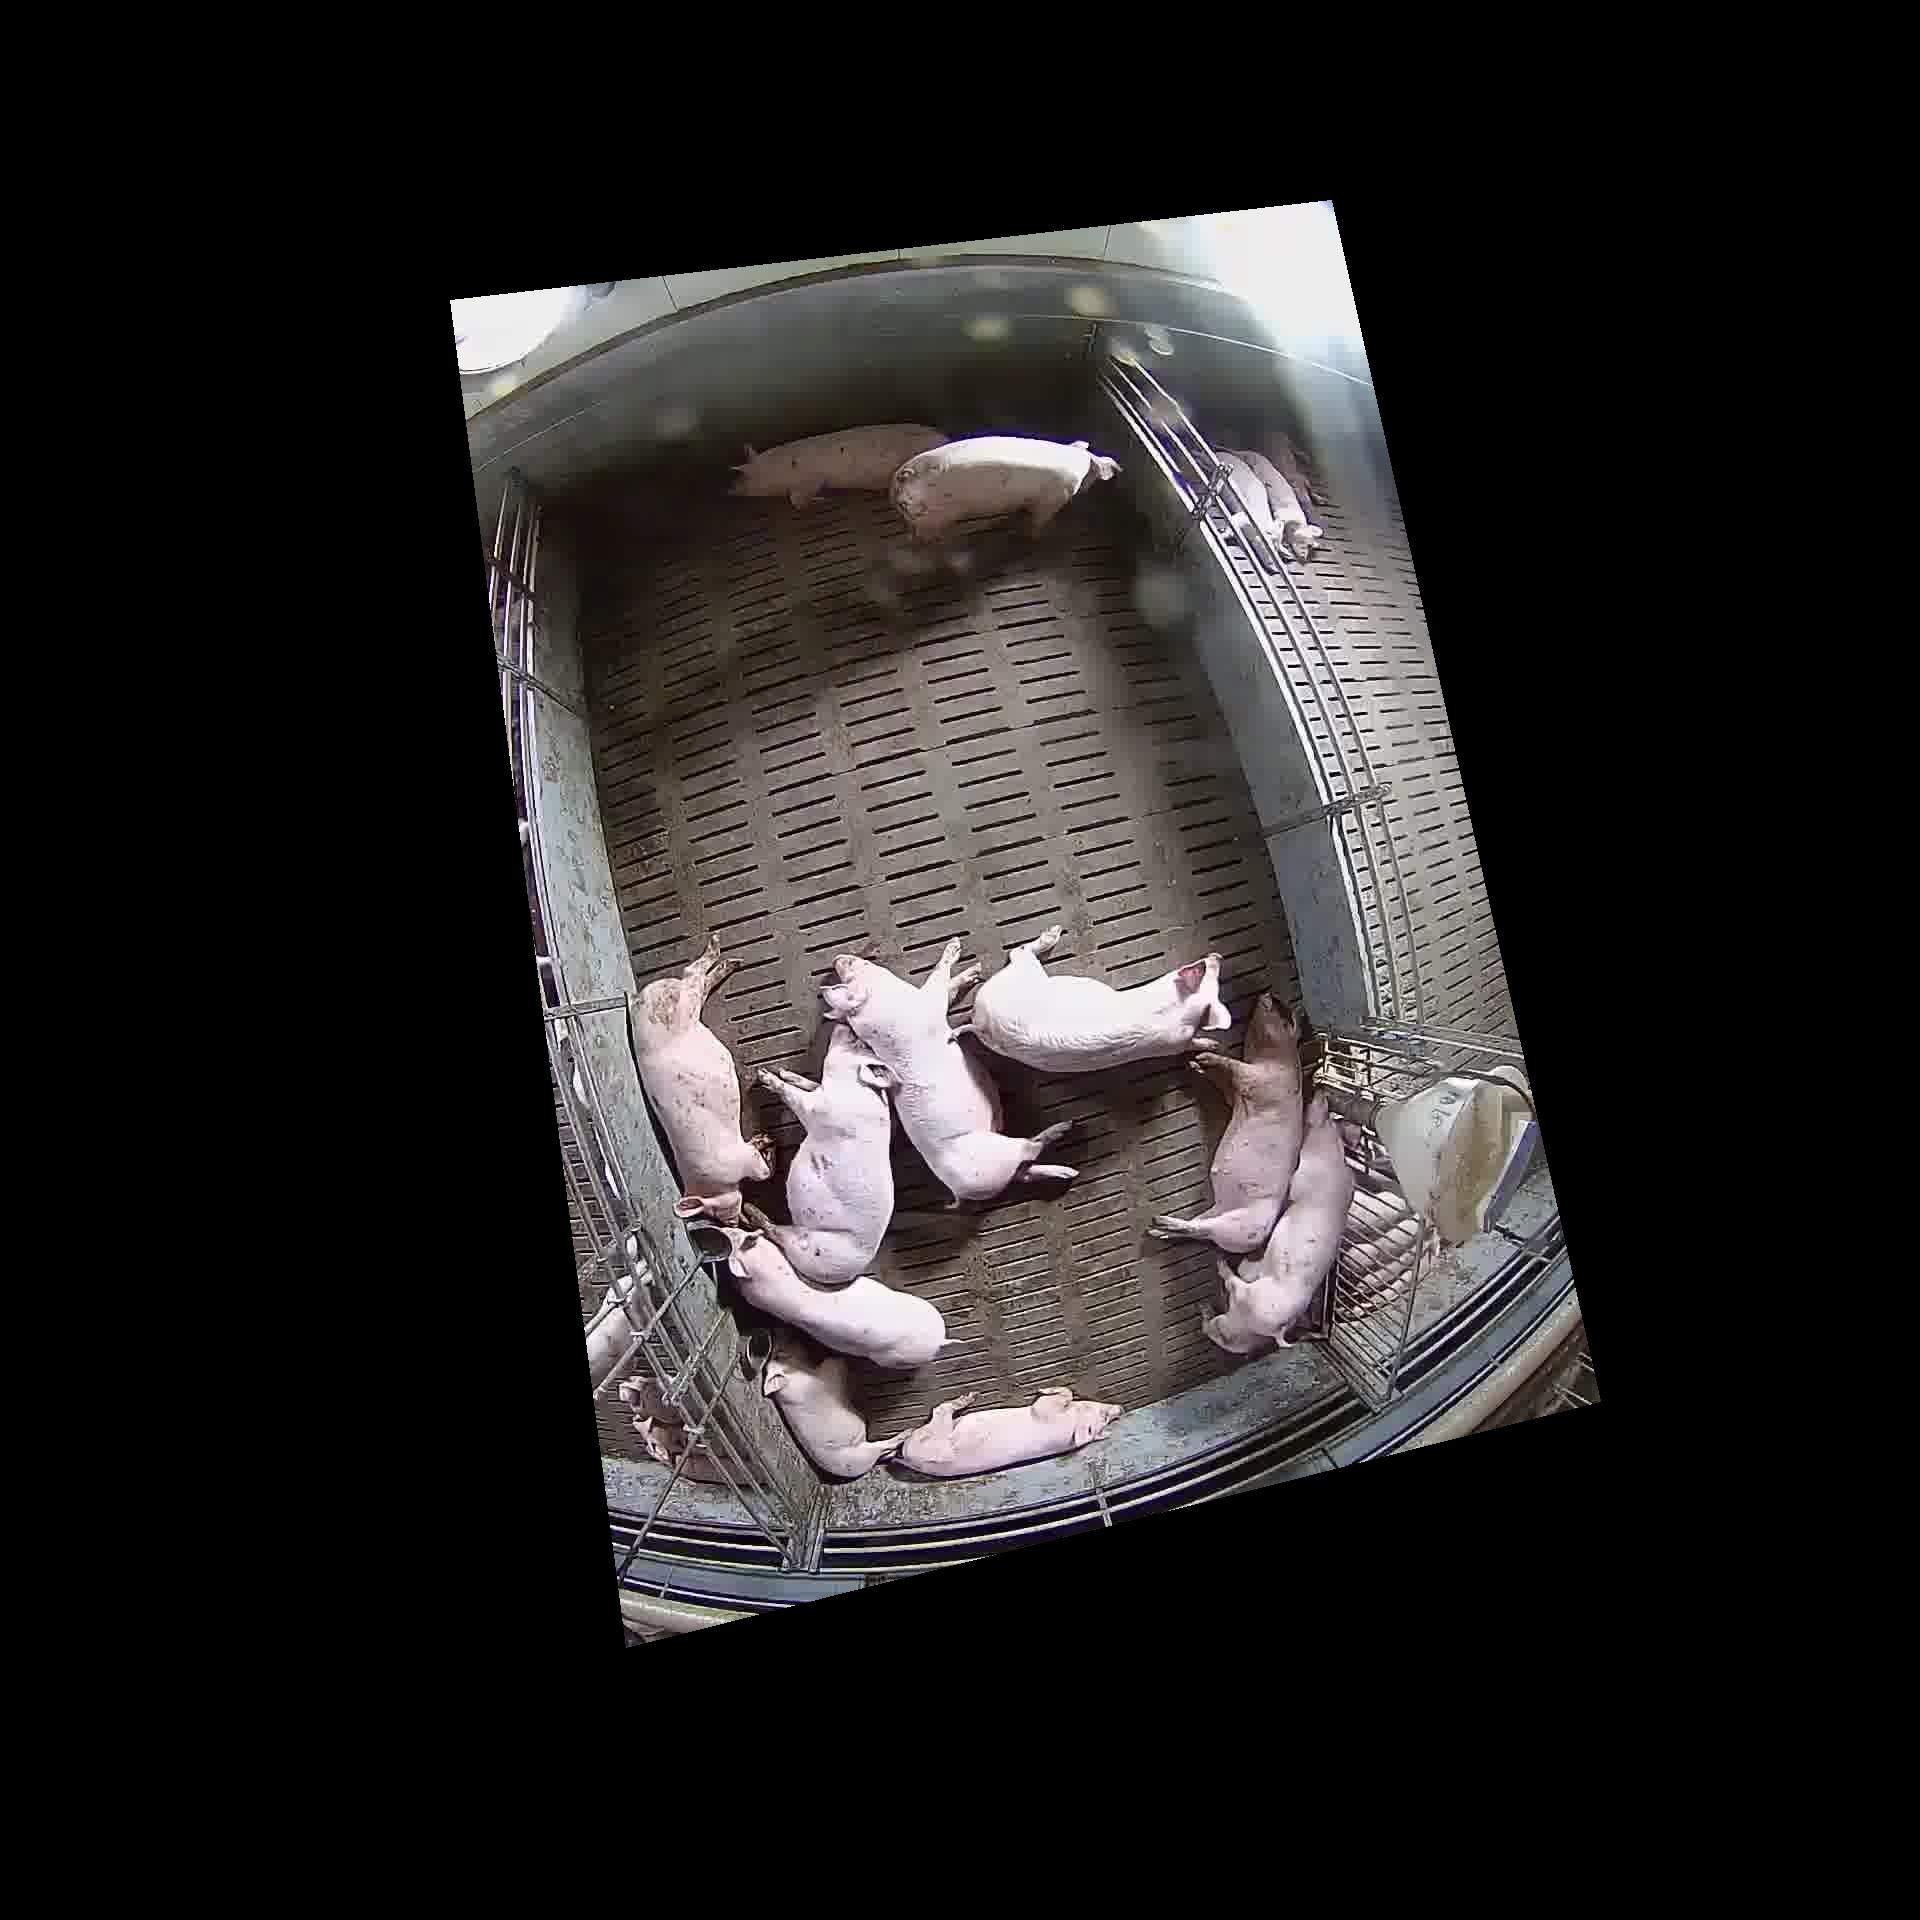pig: (823, 937, 1074, 1199), (633, 944, 772, 1224), (1153, 990, 1299, 1252), (1203, 1109, 1354, 1354), (971, 927, 1231, 1065), (758, 1022, 891, 1280), (723, 1231, 942, 1368), (890, 436, 1122, 536), (902, 1387, 1120, 1475), (761, 1356, 913, 1475), (733, 425, 942, 506)
